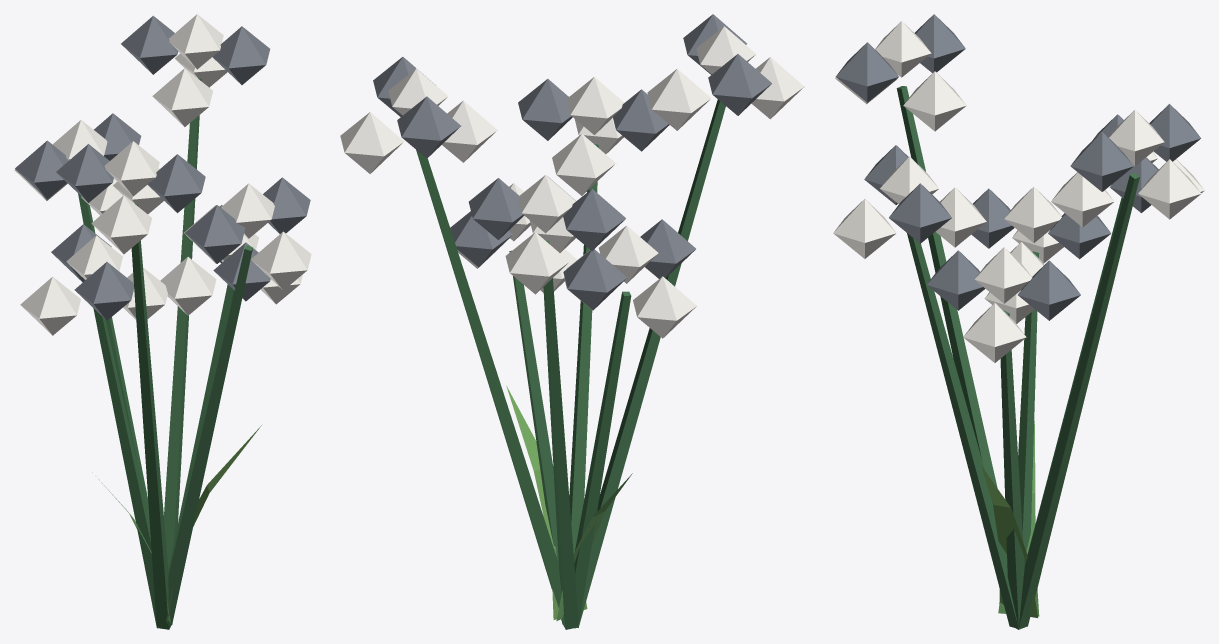
File: deco_mist_flower.obj
3 renders of one model, left to right at view 1: azimuth 30°, elevation 25°; view 2: azimuth 150°, elevation 25°; view 3: azimuth 270°, elevation 25°, orthographic. The views are drawn at different scales.
Visible parts, largest first — view 1: deco_mist_flower; view 2: deco_mist_flower; view 3: deco_mist_flower.
Boxes of the visible parts, left/top/right/bottom form: deco_mist_flower: left=14, top=14, right=311, bottom=629; deco_mist_flower: left=340, top=14, right=804, bottom=629; deco_mist_flower: left=833, top=14, right=1204, bottom=629.
Bounding box in the file's own units: 0.0324 × 0.0592 × 0.0355.
Materials: 1 (1 with a texture image).
